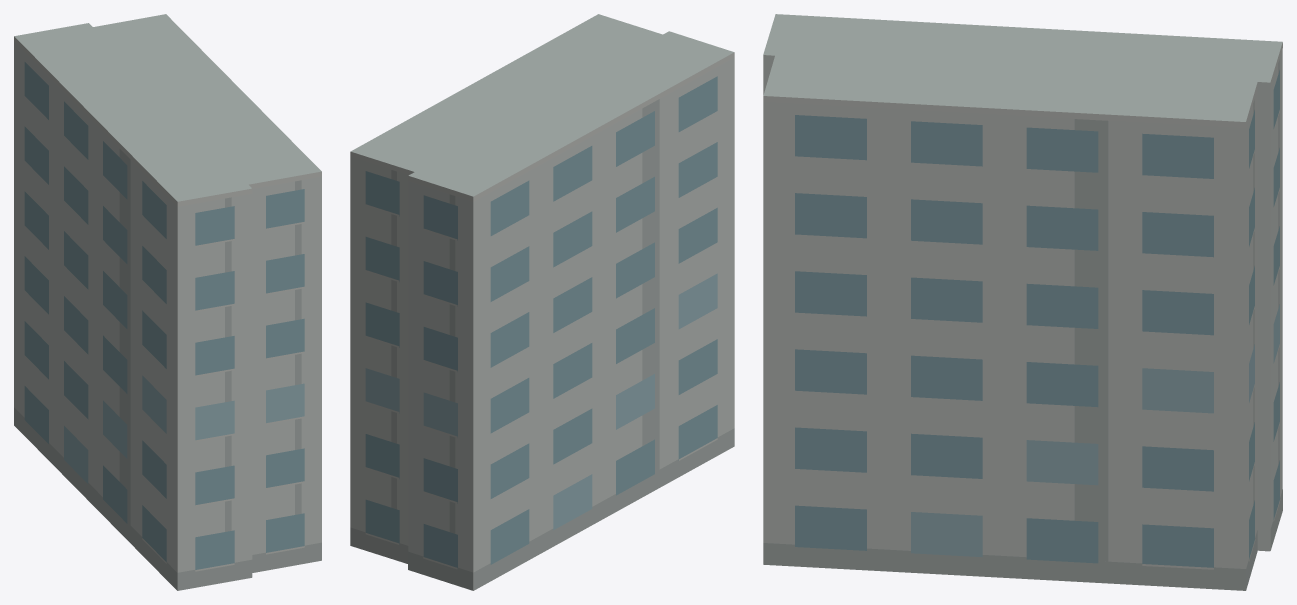
Rendered from survey-upis-32567205.glb.
3 views of the same model, side by side, from view 1: azimuth 30°, elevation 25°; view 2: azimuth 150°, elevation 25°; view 3: azimuth 270°, elevation 25° (orthographic). The views are drawn at different scales.
Visible parts, largest first — view 1: survey-upis-32567205.tmp; view 2: survey-upis-32567205.tmp; view 3: survey-upis-32567205.tmp.
Part boxes in pixels (bbox=[...]): survey-upis-32567205.tmp: bbox=[14, 14, 321, 590]; survey-upis-32567205.tmp: bbox=[350, 14, 734, 590]; survey-upis-32567205.tmp: bbox=[763, 14, 1282, 590].
Size of the model in its own units: 9.11 by 18.4 by 18.5.
